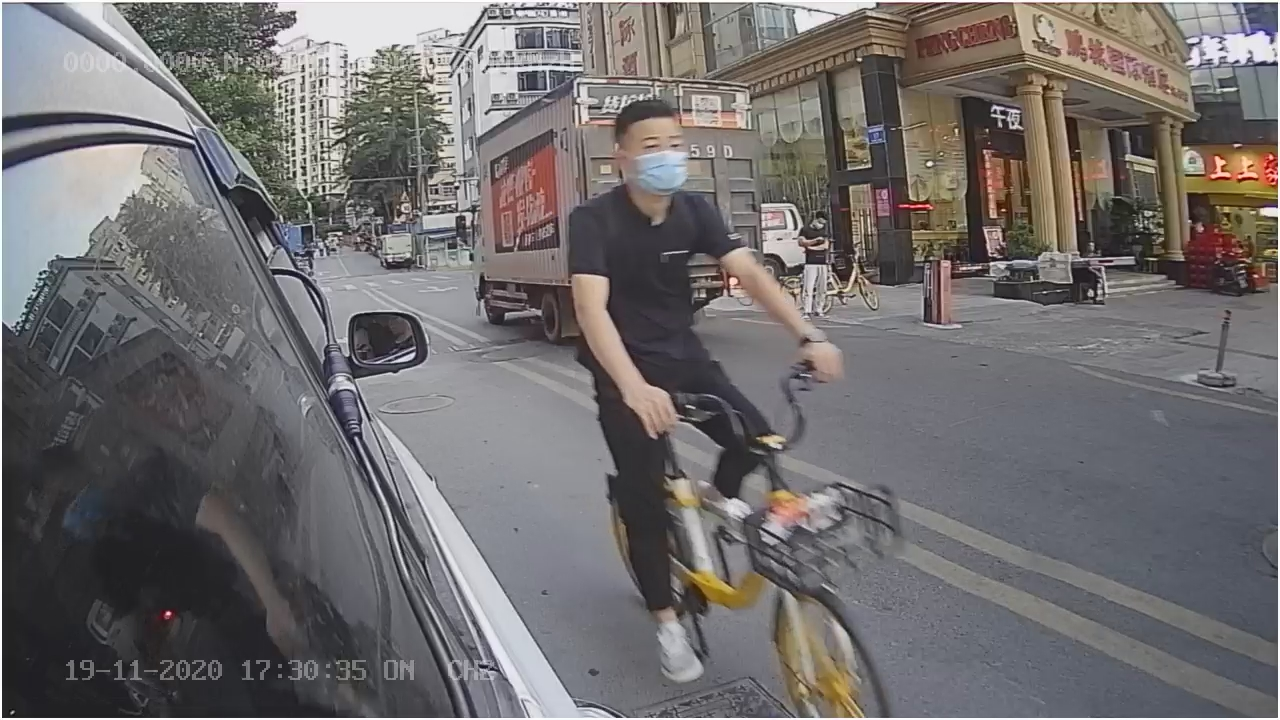person: (561, 110, 744, 376)
